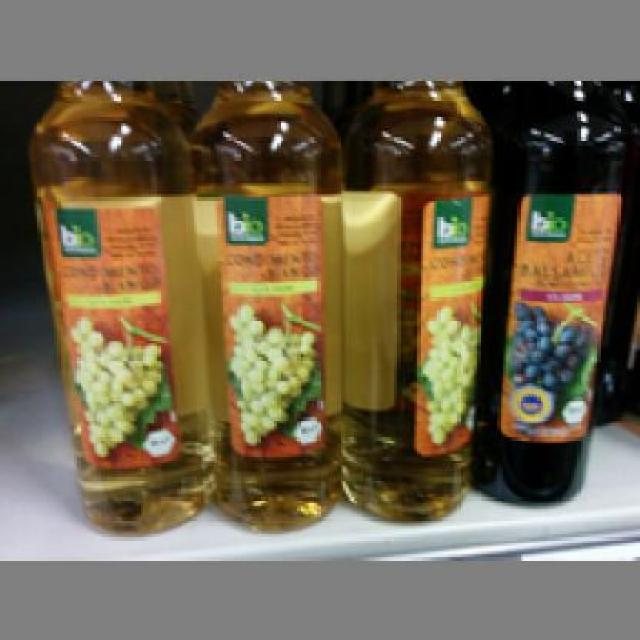Vinegar: (28, 74, 215, 534), (188, 71, 344, 528), (474, 83, 637, 506), (346, 77, 488, 514)
